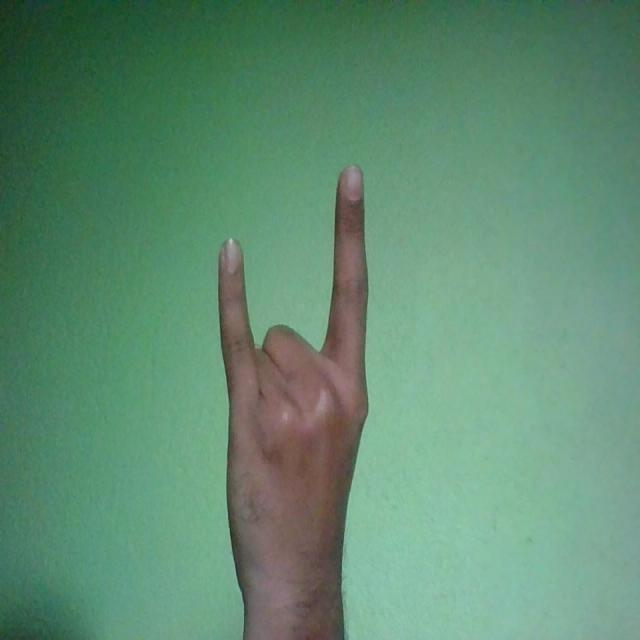open Plam: (216, 163, 368, 618)
